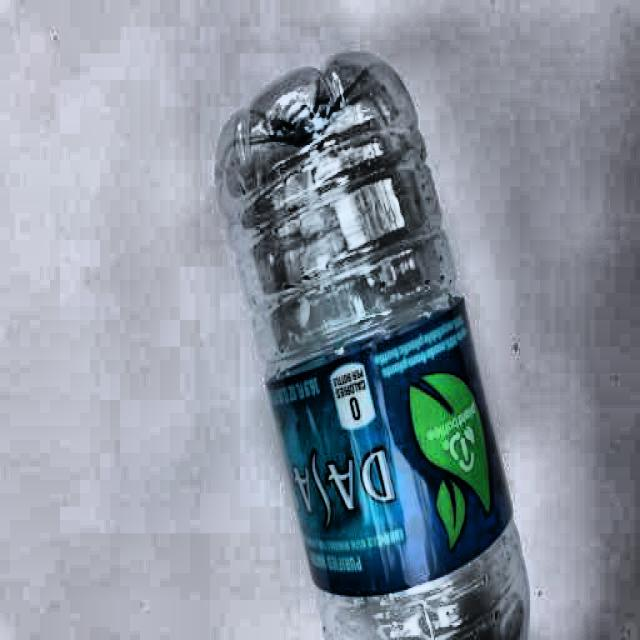plastic: (212, 58, 537, 640)
